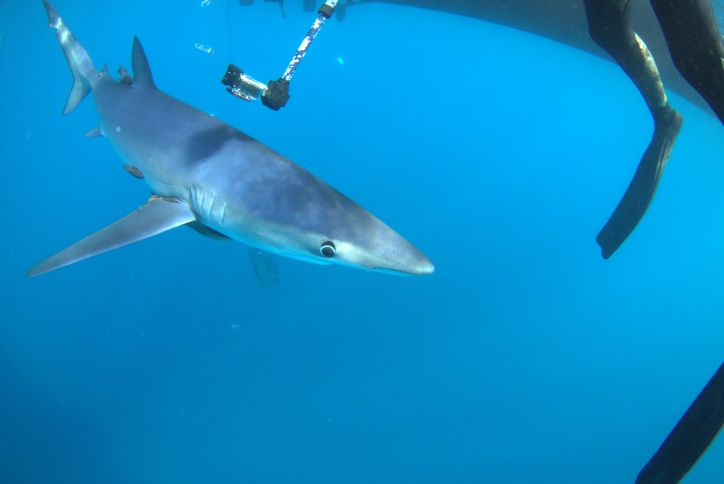Azul: (1, 3, 476, 337)
